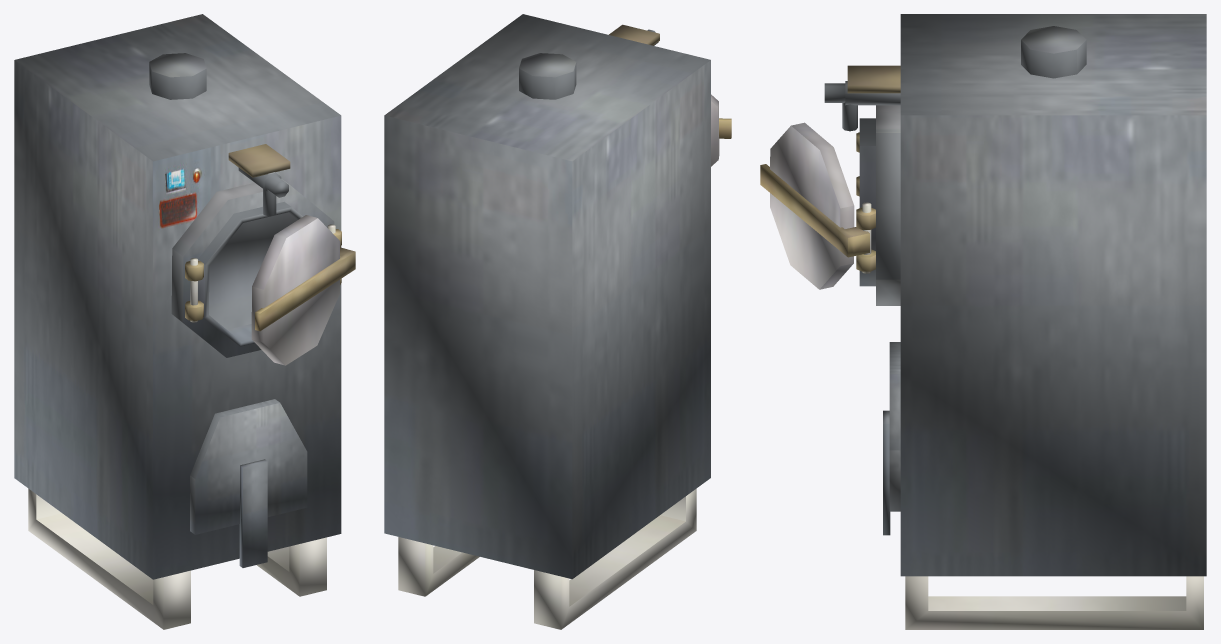
The model's file is Blender_Galley.obj.
3 renders of one model, left to right at view 1: azimuth 30°, elevation 25°; view 2: azimuth 150°, elevation 25°; view 3: azimuth 270°, elevation 25°, orthographic. The views are drawn at different scales.
Visible parts, largest first — view 1: Blender_Galley.obj; view 2: Blender_Galley.obj; view 3: Blender_Galley.obj.
Part boxes in pixels (box(x1,y1,x2,y2)): Blender_Galley.obj: box(14, 14, 355, 629); Blender_Galley.obj: box(384, 14, 731, 629); Blender_Galley.obj: box(760, 14, 1206, 629).
Size of the model in its own units: 3.51 by 8.82 by 6.53.
